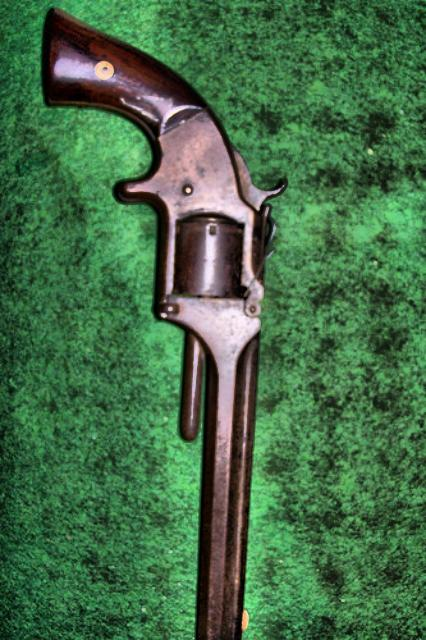pistol: (42, 7, 286, 638)
